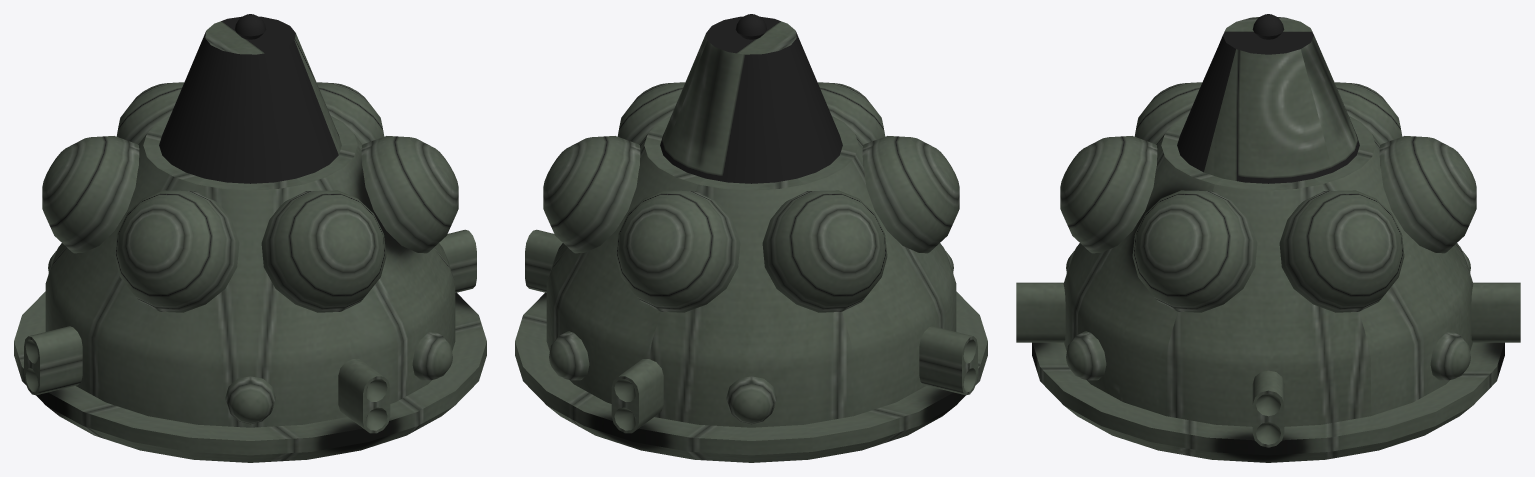
The model's file is Virgo_DockingMechanism_1.obj.
3 renders of one model, left to right at view 1: azimuth 30°, elevation 25°; view 2: azimuth 150°, elevation 25°; view 3: azimuth 270°, elevation 25°, orthographic.
Parts seen in each view (by area): view 1: Virgo_DockingMechanism_1; view 2: Virgo_DockingMechanism_1; view 3: Virgo_DockingMechanism_1.
Boxes of the visible parts, x1=… form: Virgo_DockingMechanism_1: x1=14, y1=14, x2=486, y2=462; Virgo_DockingMechanism_1: x1=515, y1=14, x2=987, y2=462; Virgo_DockingMechanism_1: x1=1016, y1=14, x2=1520, y2=462.
Bounding box in the file's own units: 1 × 0.7747 × 1.
